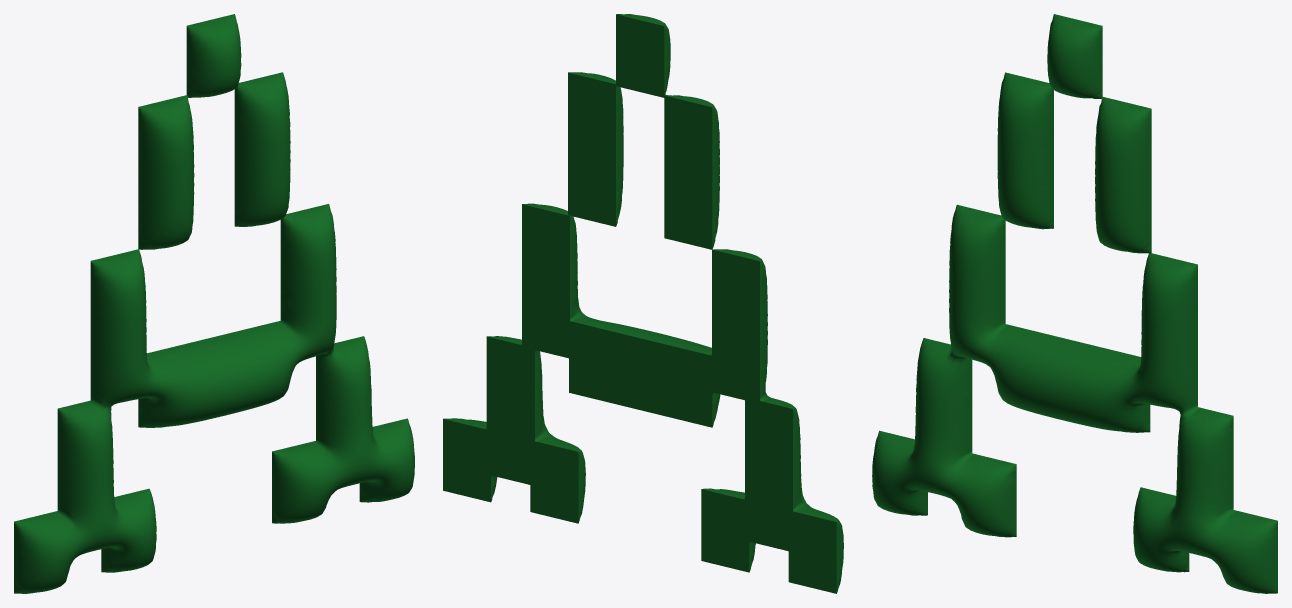
3 views of the same model, side by side, from view 1: azimuth 30°, elevation 25°; view 2: azimuth 150°, elevation 25°; view 3: azimuth 330°, elevation 25° (orthographic).
Visible parts, largest first — view 1: AdobeIllustratorMesh1.002; view 2: AdobeIllustratorMesh1.002; view 3: AdobeIllustratorMesh1.002.
Part boxes in pixels (x1,y1,x2,y2): AdobeIllustratorMesh1.002: (14, 14, 414, 593); AdobeIllustratorMesh1.002: (443, 14, 843, 593); AdobeIllustratorMesh1.002: (872, 14, 1277, 593).
Size of the model in its own units: 77.15 by 98.43 by 9.16.
